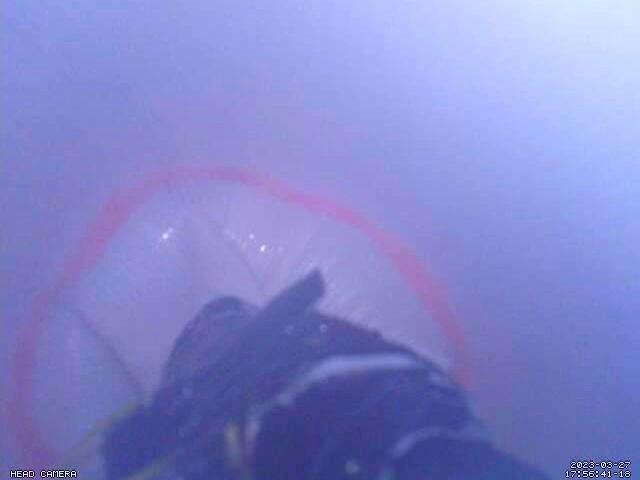head: (0, 163, 477, 480)
